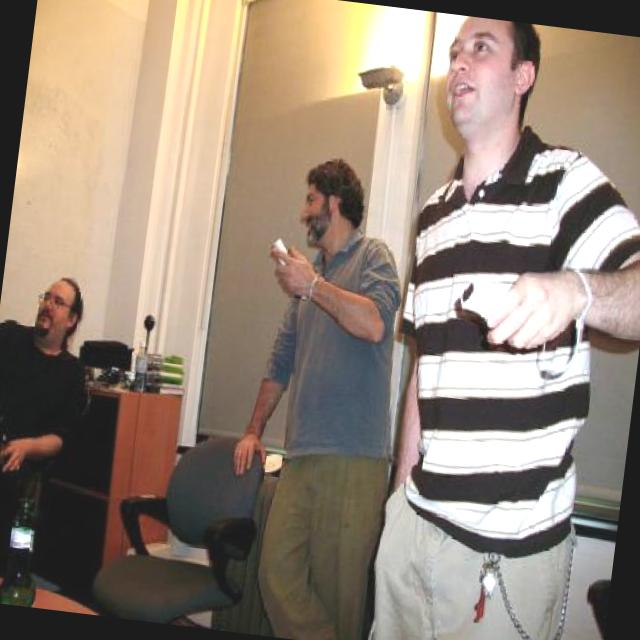Person: (359, 14, 640, 640), (210, 146, 428, 640), (0, 270, 102, 557)
